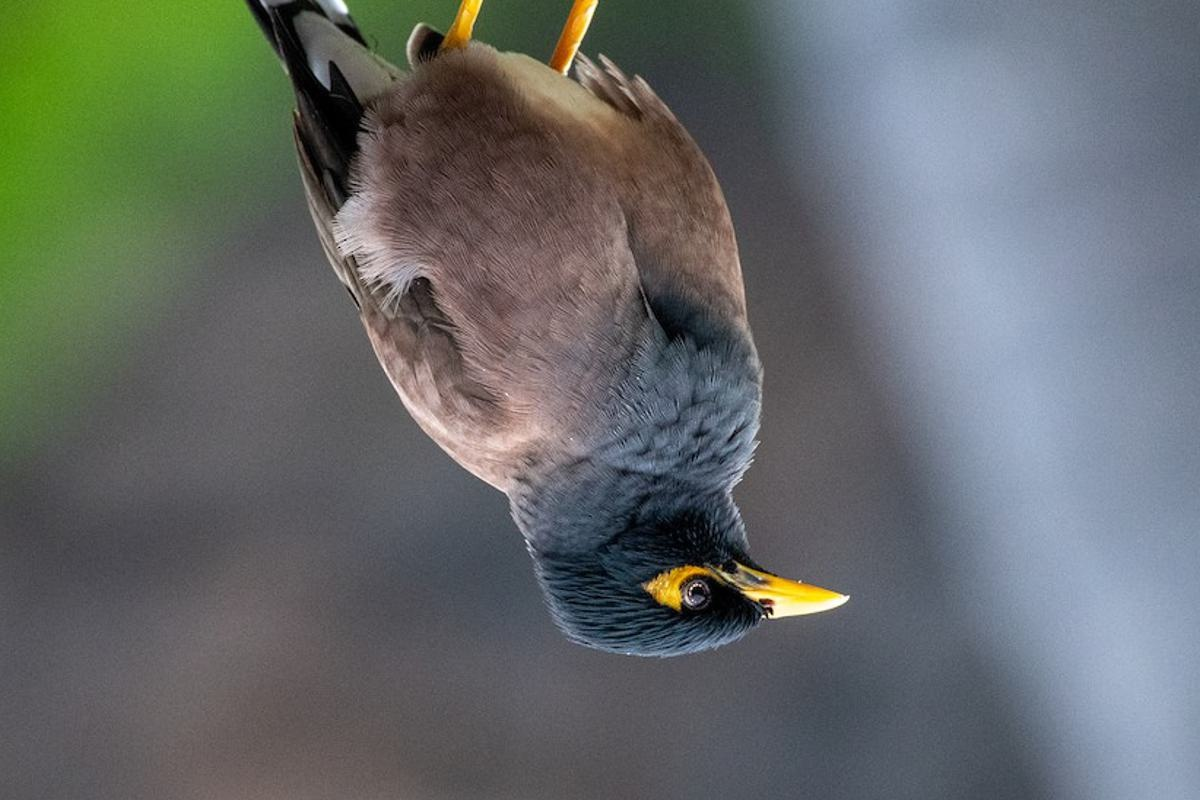myna: (271, 2, 885, 653)
